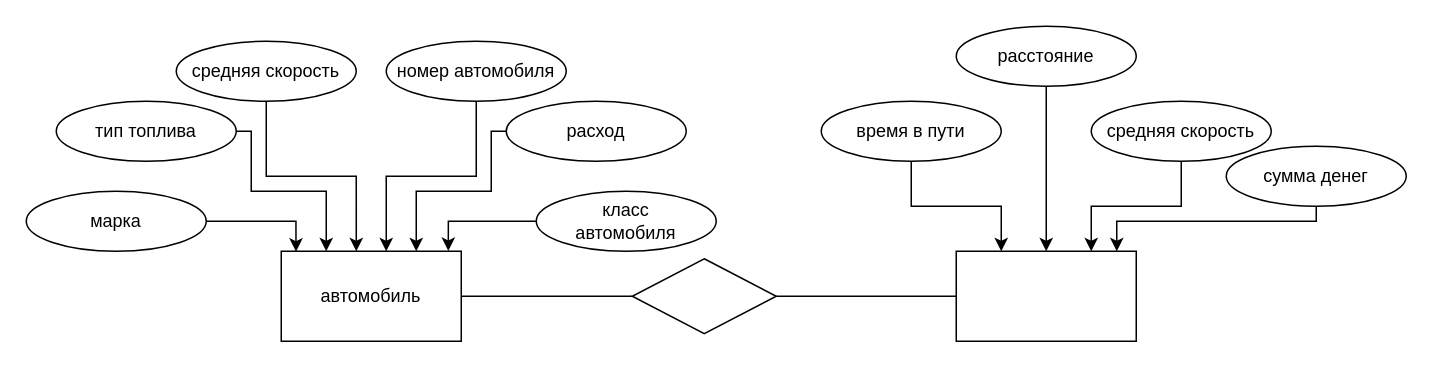
The diagram is 1433 pixels wide and 368 high, and some of its shapes have lost their labels. The centre of each missing label's shape, as x and y in pixels:
"поездка" goes at [1045,295].
"совершает" goes at [703,295].
